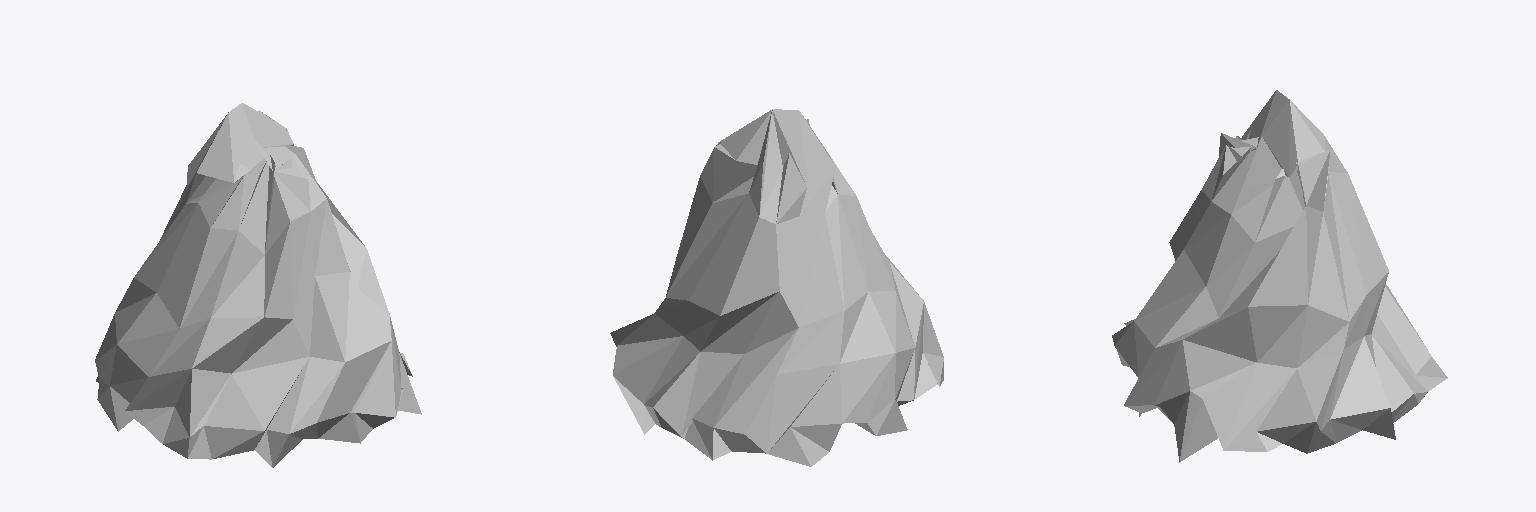
The model's file is blueberry sauced.obj.
3 renders of one model, left to right at view 1: azimuth 30°, elevation 25°; view 2: azimuth 150°, elevation 25°; view 3: azimuth 270°, elevation 25°, orthographic.
Visible parts, largest first — view 1: blueberry_sauced; view 2: blueberry_sauced; view 3: blueberry_sauced.
Boxes of the visible parts, x1=… form: blueberry_sauced: x1=95, y1=103, x2=421, y2=467; blueberry_sauced: x1=610, y1=109, x2=943, y2=466; blueberry_sauced: x1=1112, y1=90, x2=1447, y2=462.
Bounding box in the file's own units: 0.0925 × 0.0953 × 0.0953.